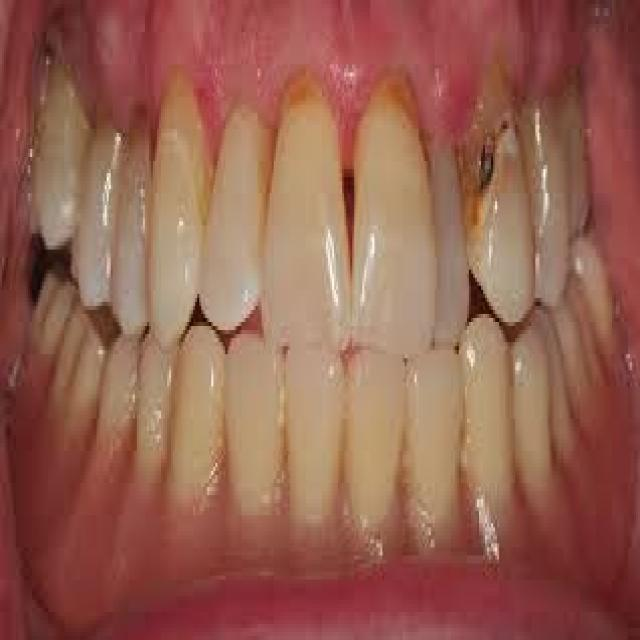tooth: (350, 77, 437, 354), (278, 85, 356, 350), (199, 93, 274, 330), (465, 109, 539, 314), (145, 68, 197, 350), (344, 338, 409, 556), (404, 346, 467, 556), (461, 318, 517, 535), (288, 334, 344, 548), (225, 334, 286, 519), (177, 322, 224, 511), (511, 314, 558, 503), (36, 64, 83, 238), (113, 117, 149, 338), (131, 326, 173, 475), (94, 326, 137, 455)
